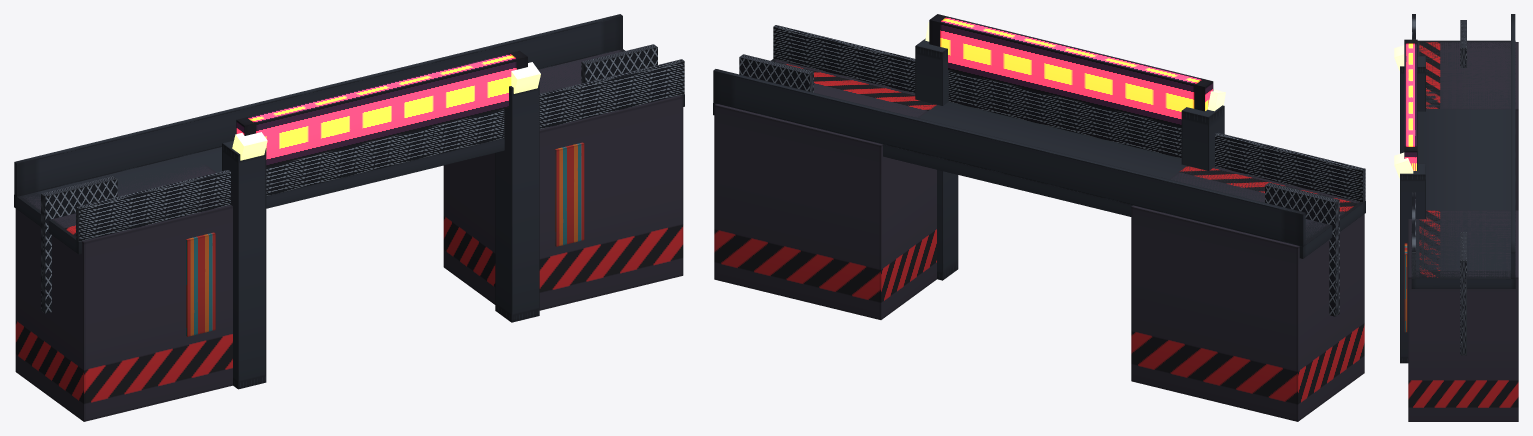
The model's file is ashblock_syndicate_gatehouse.glb.
3 renders of one model, left to right at view 1: azimuth 30°, elevation 25°; view 2: azimuth 150°, elevation 25°; view 3: azimuth 270°, elevation 25°, orthographic. The views are drawn at different scales.
Visible parts, largest first — view 1: ashblock_syndicate_gatehouse; view 2: ashblock_syndicate_gatehouse; view 3: ashblock_syndicate_gatehouse.
Part boxes in pixels (x1,y1,x2,y2): ashblock_syndicate_gatehouse: [14, 14, 684, 421]; ashblock_syndicate_gatehouse: [713, 14, 1365, 421]; ashblock_syndicate_gatehouse: [1394, 14, 1518, 421].
Bounding box in the file's own units: 18.6 × 7.53 × 4.06.
Materials: 1 (1 with a texture image).
